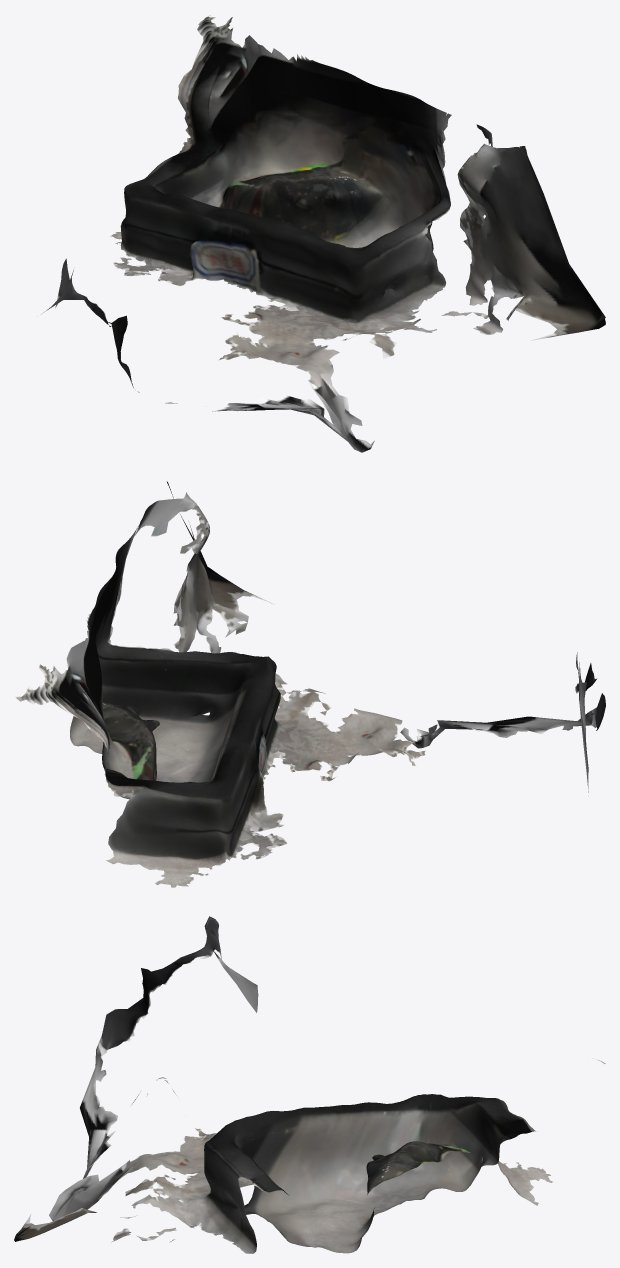
The picture shows the model from 3 angles, top to bottom: view 1: azimuth 30°, elevation 25°; view 2: azimuth 150°, elevation 25°; view 3: azimuth 270°, elevation 25°; orthographic projection. The views are drawn at different scales.
Bounding box in the file's own units: 0.8468 × 0.3917 × 0.9005.
1 material, 1 textured.
